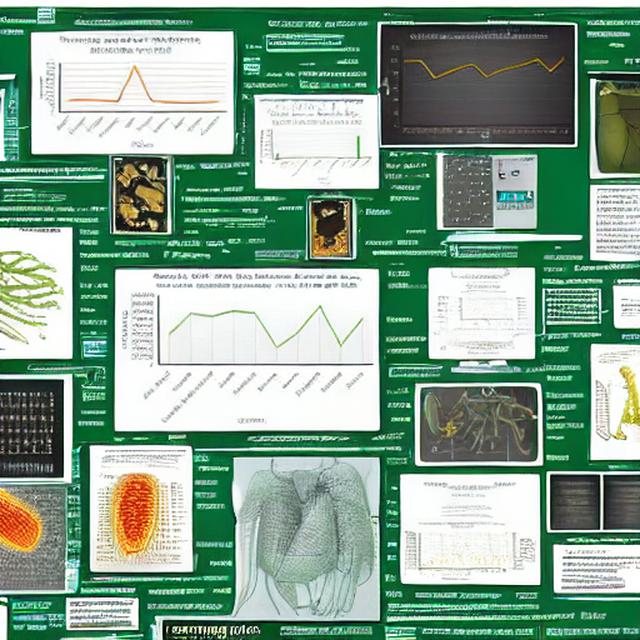Graph: (116, 270, 377, 427), (33, 33, 231, 151), (382, 31, 575, 145), (257, 110, 376, 184), (402, 518, 509, 581), (453, 289, 514, 325), (551, 500, 601, 529)
